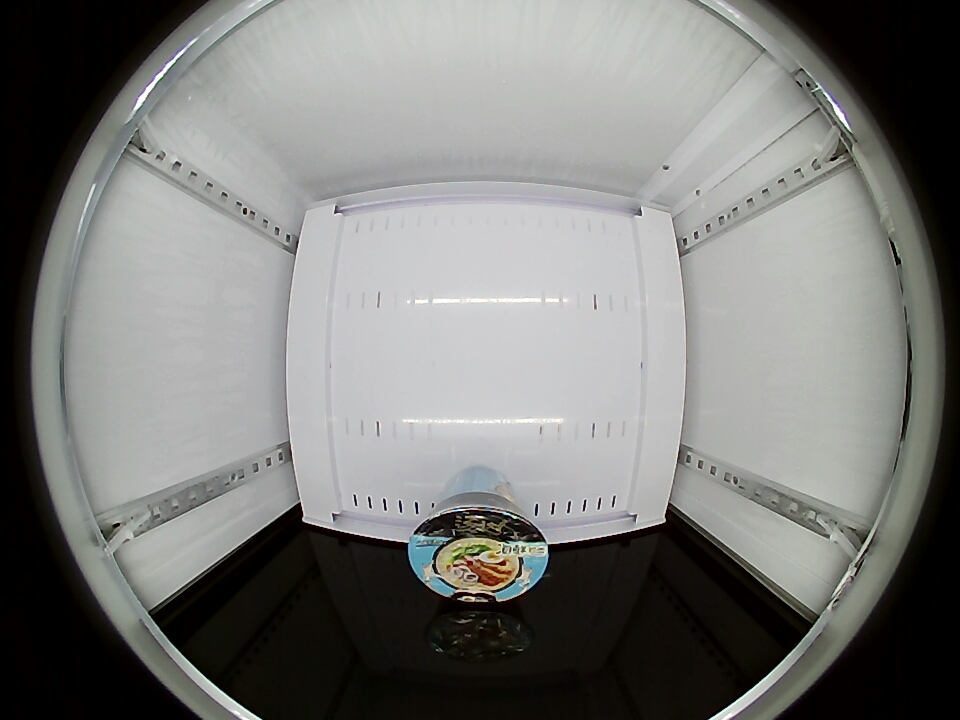tangdaren3: (408, 492, 549, 605)
